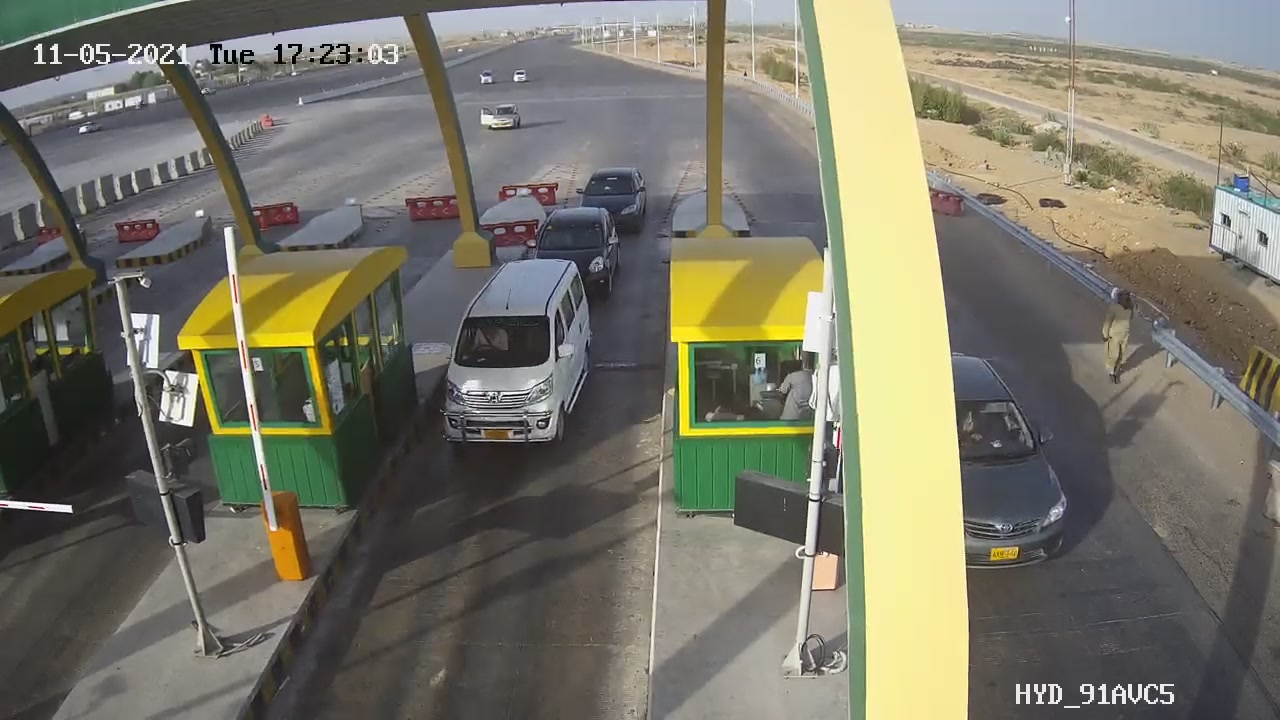F1: (427, 243, 611, 472)
